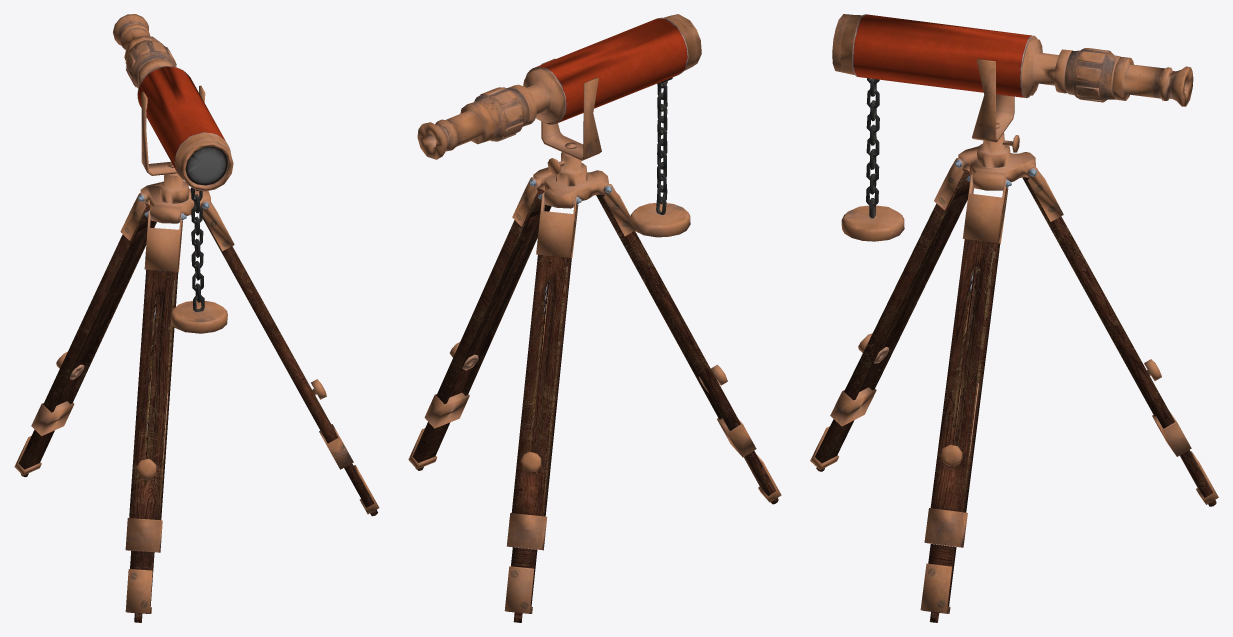
Rendered from st_telescope.gltf.
The picture shows the model from 3 angles, left to right: view 1: azimuth 30°, elevation 25°; view 2: azimuth 150°, elevation 25°; view 3: azimuth 270°, elevation 25°; orthographic projection. The views are drawn at different scales.
Parts seen in each view (by area): view 1: 3D_telescope_1; view 2: 3D_telescope_1; view 3: 3D_telescope_1.
Part boxes in pixels (x1=…): 3D_telescope_1: x1=14, y1=14, x2=379, y2=622; 3D_telescope_1: x1=408, y1=14, x2=781, y2=622; 3D_telescope_1: x1=810, y1=14, x2=1218, y2=622.
Size of the model in its own units: 1.36 by 1.97 by 1.46.
Materials: 1 (1 with a texture image).
